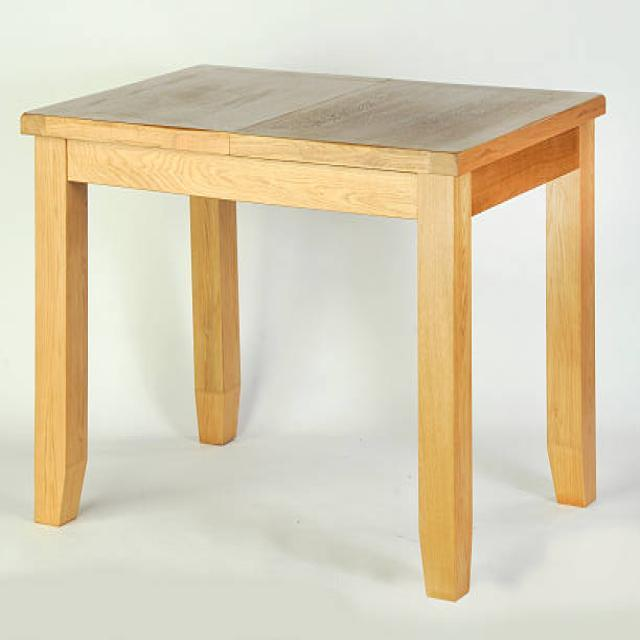table: (19, 61, 606, 602)
